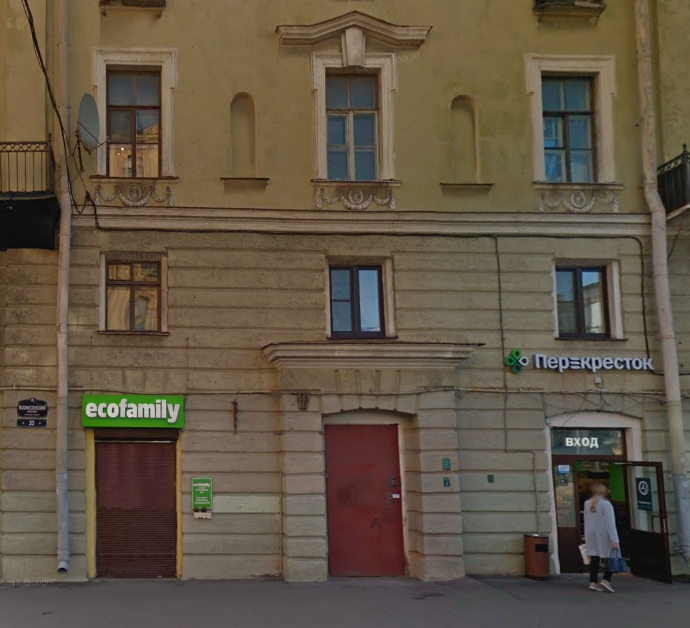door: (559, 422, 663, 570), (98, 436, 179, 578), (331, 420, 401, 578)
signboard: (502, 340, 666, 384), (81, 392, 182, 429)
window: (325, 67, 380, 180), (107, 65, 160, 177), (543, 74, 594, 182), (553, 264, 612, 336), (104, 259, 163, 325), (328, 267, 378, 339)
